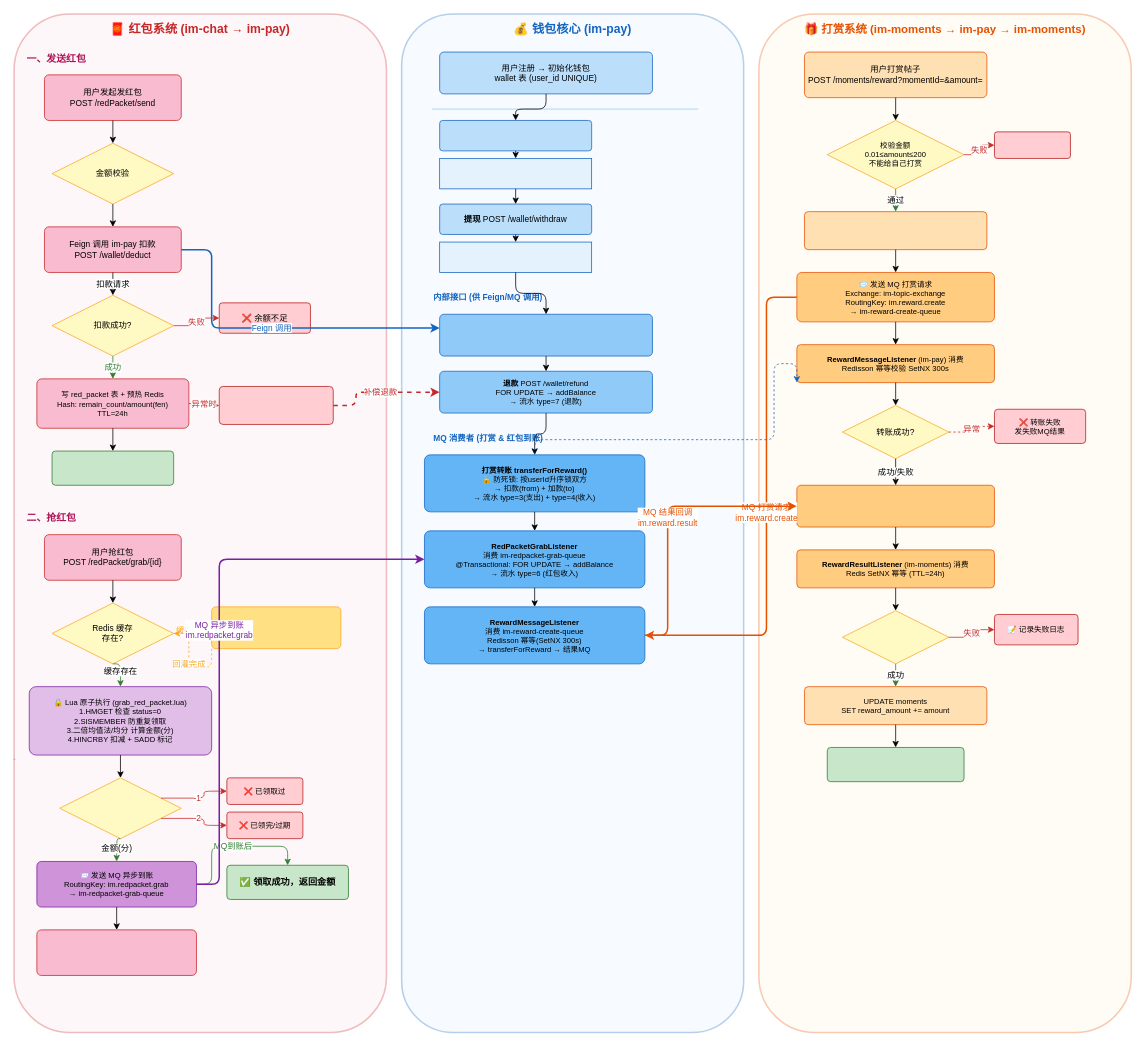
Some shapes in this 1145 by 1046 pixel diagram are drawn without their labels. Here are the shapes that lost their labels. From the top down, the box of each, then its label:
(439, 120, 592, 151): 充值 POST /wallet/recharge
(994, 131, 1070, 158): ❌ 校验失败
(439, 158, 592, 189): FOR UPDATE 行锁 → addBalance → 流水 type=1 (充值)
(804, 211, 987, 250): 生成幂等 Key {fromUserId}_{momentId}_{timestamp}
(439, 241, 592, 272): FOR UPDATE → 校验余额 → deductBalance → 流水 type=2
(439, 314, 652, 356): 扣款 POST /wallet/deduct FOR UPDATE → deductBalance(乐观锁) → 流水 type=5 (红包支出)
(218, 386, 333, 424): ⚠️ DB/Redis异常 补偿退款 refund
(51, 450, 174, 485): ✅ 红包发送成功
(796, 484, 994, 527): 📨 发送打赏结果 MQ RoutingKey: im.reward.result → im-reward-result-queue
(211, 606, 341, 649): 分布式锁 warmup SetNX lock → DB回灌Redis
(842, 610, 949, 664): 打赏成功?
(826, 747, 964, 782): ✅ 打赏完成
(59, 777, 181, 839): Lua 返回?
(36, 929, 196, 975): 同步写领取记录 + DB扣减 remain_count/amount 领完 → 更新 status=1
